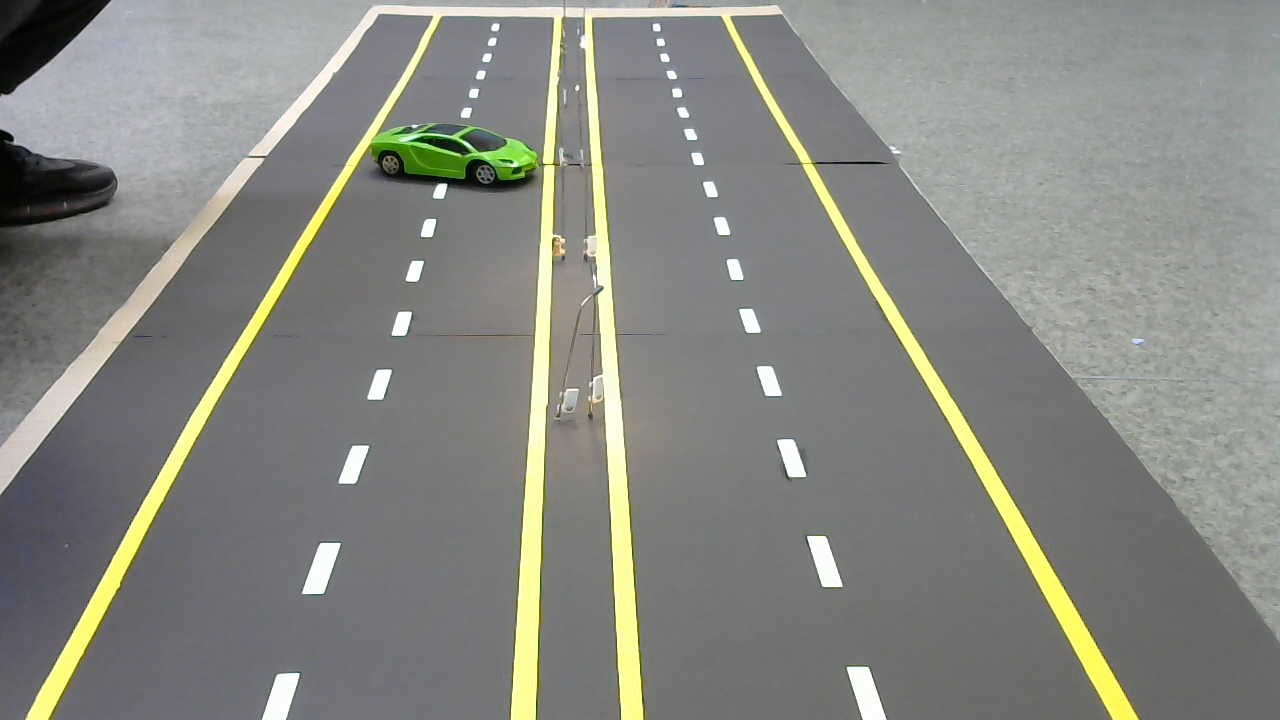overturn_car: (367, 118, 541, 194)
